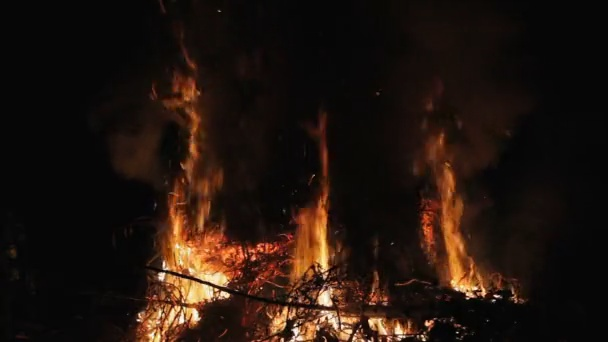fire: (140, 109, 231, 342), (280, 199, 343, 342), (423, 166, 484, 295)
